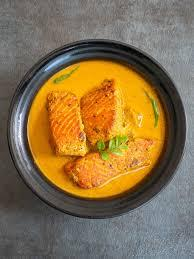Fish Curry: (32, 63, 159, 204)
